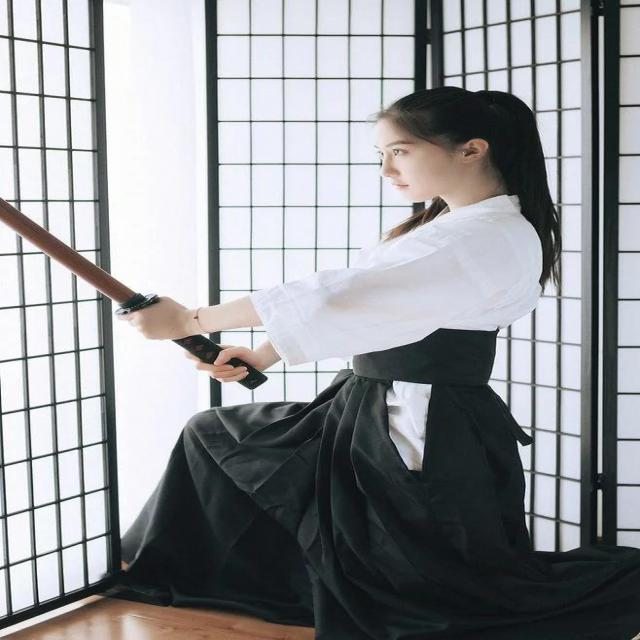Manusia: (192, 41, 612, 640)
